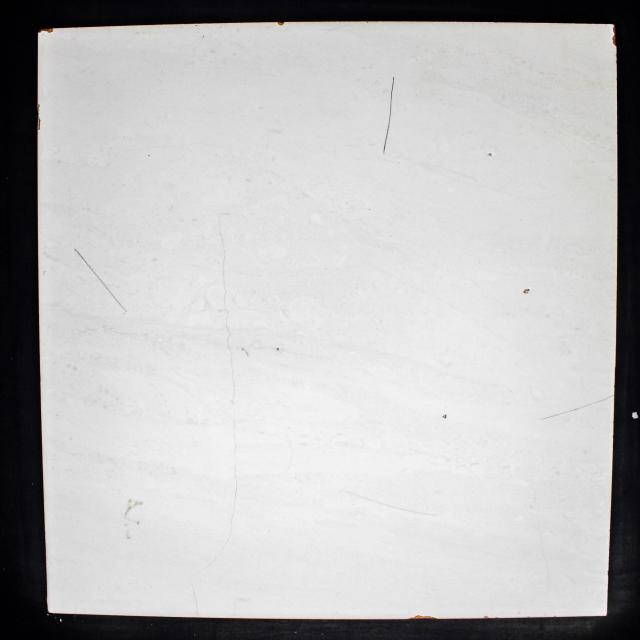edge-chipping: (408, 614, 438, 620), (37, 103, 41, 131), (612, 24, 616, 47), (38, 28, 54, 33), (277, 22, 285, 26), (483, 615, 490, 619)
hole: (522, 287, 531, 295), (442, 414, 448, 419), (276, 347, 280, 351), (488, 153, 493, 156)
line: (71, 245, 131, 316), (337, 486, 442, 521), (539, 393, 614, 423), (382, 76, 396, 155)
